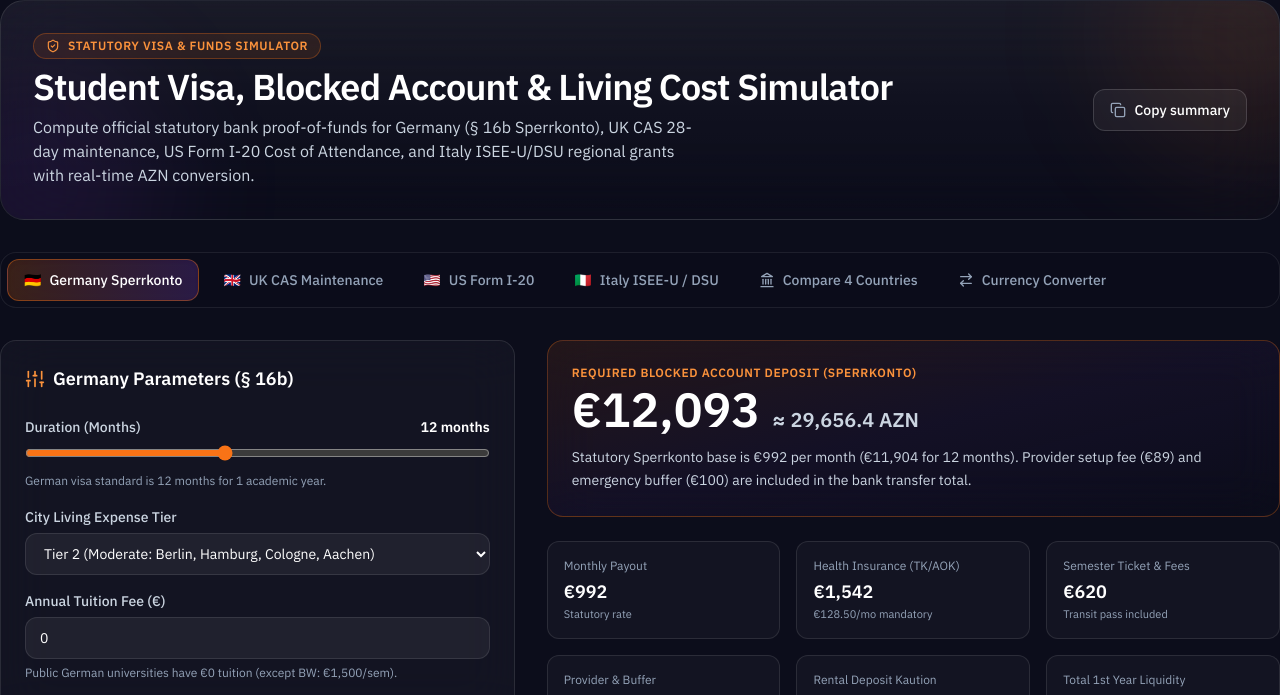
Test: FinanceSimulator Component › switches to UK tab and displays 28-day bank statement requirement
Click the button "🇬🇧 UK CAS Maintenance". click: (303, 280)
box: [208,259,399,301]
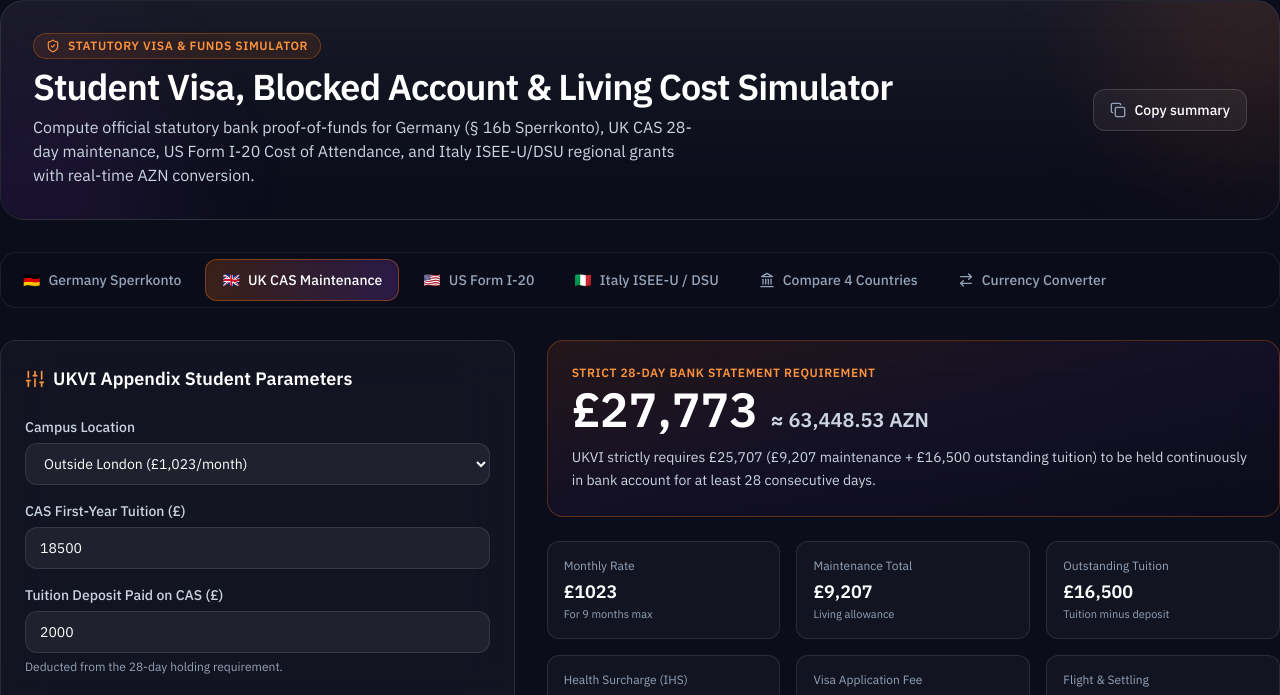
Result: the heading "UKVI Appendix Student Parameters" is shown at [25,367,352,390]
Result: the text "Strict 28-Day Bank Statement Requirement" is shown at [572,365,876,380]
